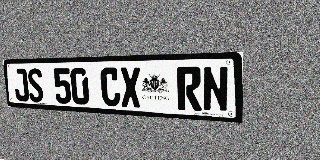0: (70, 68, 89, 105)
5: (53, 68, 72, 104)
C: (100, 67, 121, 107)
J: (13, 68, 29, 102)
N: (202, 66, 229, 113)
R: (177, 66, 202, 111)
S: (27, 68, 44, 103)
X: (120, 67, 142, 108)
